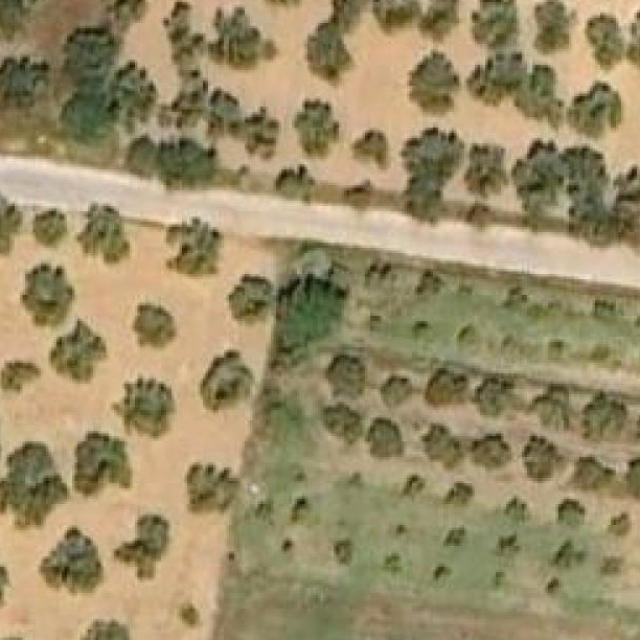Tree: (58, 18, 156, 143), (466, 49, 564, 131), (0, 441, 67, 528), (273, 277, 344, 354), (208, 89, 281, 162), (126, 138, 218, 185), (210, 8, 273, 74), (114, 514, 171, 582), (111, 379, 173, 439), (74, 431, 130, 497), (197, 351, 252, 418), (48, 319, 106, 382), (566, 79, 623, 141), (20, 264, 77, 326), (76, 204, 132, 267), (165, 217, 221, 279), (407, 49, 459, 112), (0, 55, 51, 117), (514, 146, 564, 204), (292, 99, 339, 157), (187, 462, 240, 512), (409, 131, 459, 183), (470, 0, 520, 50), (48, 533, 95, 586), (302, 26, 344, 82), (132, 304, 179, 351), (315, 400, 365, 444), (464, 143, 504, 196), (370, 0, 428, 36), (420, 0, 464, 47), (231, 272, 273, 319), (587, 16, 623, 68), (352, 128, 394, 172), (472, 373, 516, 415), (422, 426, 464, 470), (536, 386, 571, 436), (527, 441, 569, 481), (325, 356, 365, 398), (534, 0, 569, 47), (0, 190, 23, 258), (424, 368, 466, 405), (365, 417, 402, 457), (472, 434, 511, 471), (574, 457, 616, 491), (542, 538, 586, 570), (587, 403, 626, 439), (407, 180, 443, 219), (32, 208, 67, 248), (328, 0, 371, 28), (74, 619, 130, 640), (381, 375, 420, 405), (1, 363, 41, 392), (1, 0, 39, 30), (281, 170, 323, 196), (367, 260, 398, 290), (448, 478, 474, 512), (590, 345, 621, 371), (490, 536, 520, 562), (605, 512, 635, 538), (595, 298, 624, 324), (419, 269, 444, 295), (404, 476, 429, 502), (346, 183, 372, 207), (630, 4, 640, 63), (505, 499, 529, 523), (179, 602, 200, 628), (548, 340, 569, 366), (442, 528, 467, 549), (560, 502, 584, 523), (628, 457, 640, 499), (333, 538, 352, 564), (292, 497, 310, 523), (433, 565, 452, 580), (283, 536, 297, 554)
